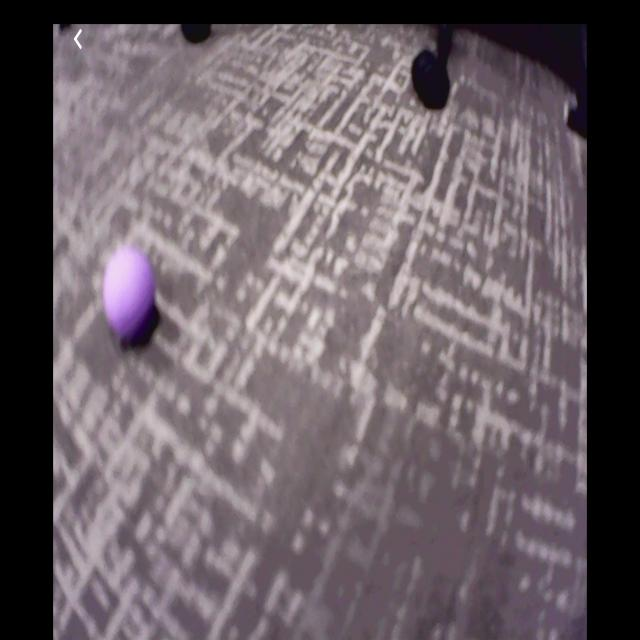ball: (103, 250, 159, 341)
